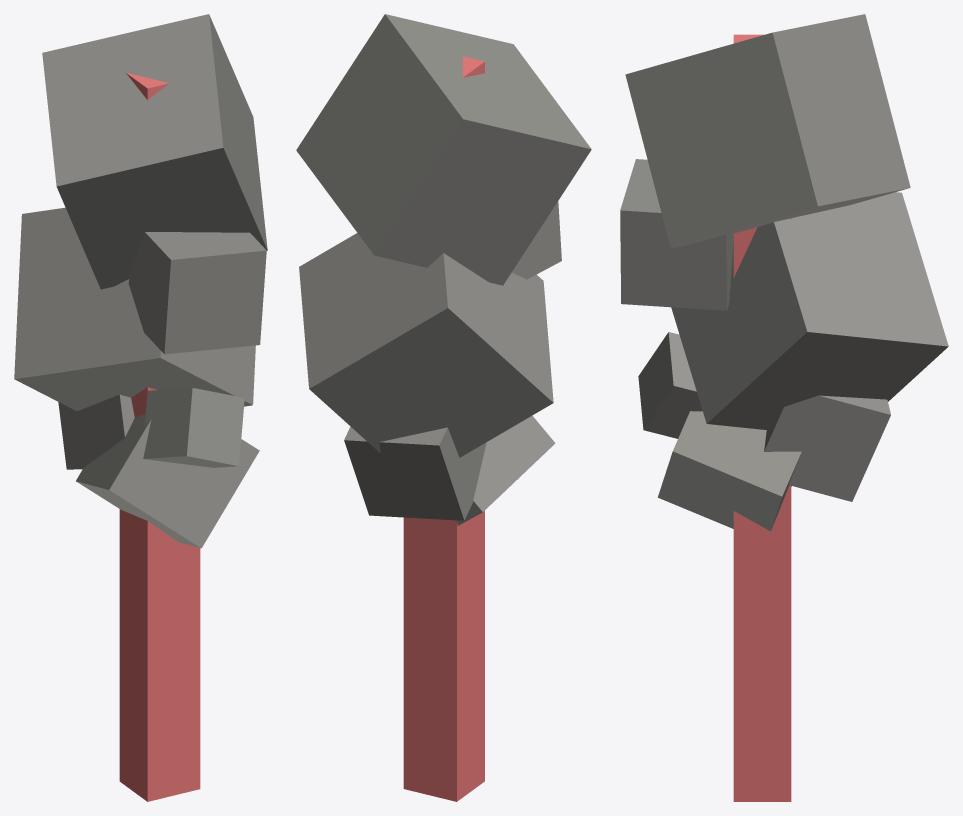
Rendered from Bush0.fbx.
3 renders of one model, left to right at view 1: azimuth 30°, elevation 25°; view 2: azimuth 150°, elevation 25°; view 3: azimuth 270°, elevation 25°, orthographic. The views are drawn at different scales.
Visible parts, largest first — view 1: Bush2__4_, Bush2__2_, Stam__1_, Bush2__3_, Bush2, Bush2__5_, Bush2__1_; view 2: Bush2__4_, Bush2__2_, Stam__1_, Bush2__1_, Bush2, Bush2__3_; view 3: Bush2__4_, Bush2__2_, Stam__1_, Bush2, Bush2__3_, Bush2__1_, Bush2__5_.
Part boxes in pixels (left/top/right/bottom): Bush2__4_: left=42, top=14, right=267, bottom=289; Bush2__2_: left=14, top=207, right=255, bottom=411; Stam__1_: left=119, top=72, right=200, bottom=801; Bush2__3_: left=128, top=232, right=266, bottom=354; Bush2: left=76, top=414, right=259, bottom=548; Bush2__5_: left=143, top=387, right=244, bottom=467; Bush2__1_: left=58, top=394, right=134, bottom=469; Bush2__4_: left=296, top=14, right=591, bottom=285; Bush2__2_: left=299, top=233, right=553, bottom=457; Stam__1_: left=403, top=56, right=484, bottom=801; Bush2__1_: left=344, top=426, right=486, bottom=520; Bush2: left=456, top=415, right=555, bottom=525; Bush2__3_: left=512, top=201, right=561, bottom=279; Bush2__4_: left=625, top=14, right=910, bottom=248; Bush2__2_: left=671, top=192, right=948, bottom=429; Stam__1_: left=733, top=34, right=791, bottom=801; Bush2: left=657, top=411, right=801, bottom=531; Bush2__3_: left=620, top=159, right=733, bottom=310; Bush2__1_: left=764, top=395, right=890, bottom=501; Bush2__5_: left=638, top=332, right=702, bottom=438.
Bounding box in the file's own units: 214 × 619 × 235.
